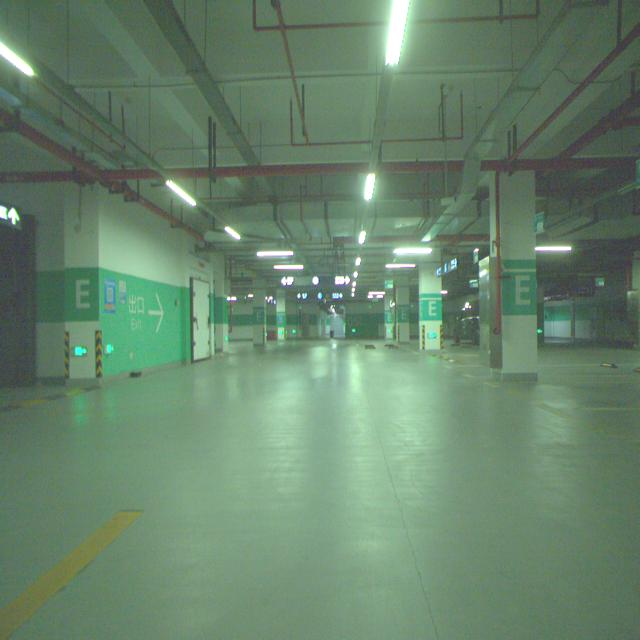pillar: (490, 172, 538, 381), (419, 262, 442, 350)
